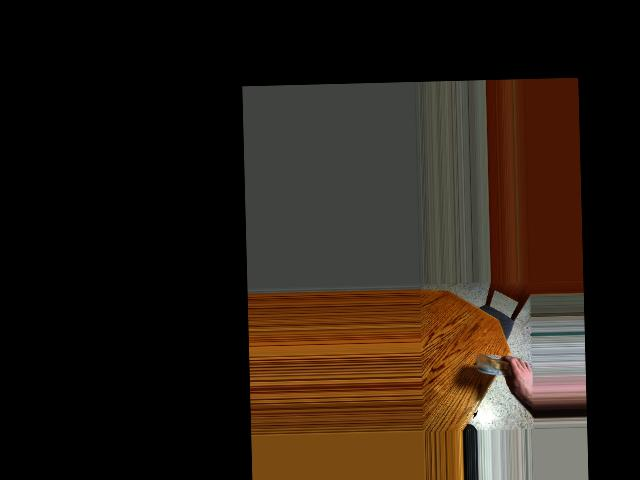cheese: (474, 344, 522, 393)
